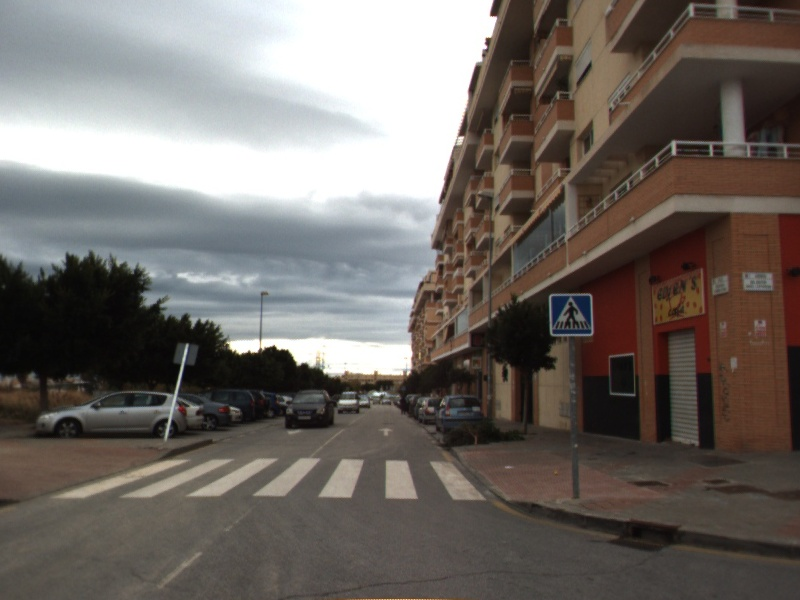STRAIGHT: (376, 426, 395, 438)
